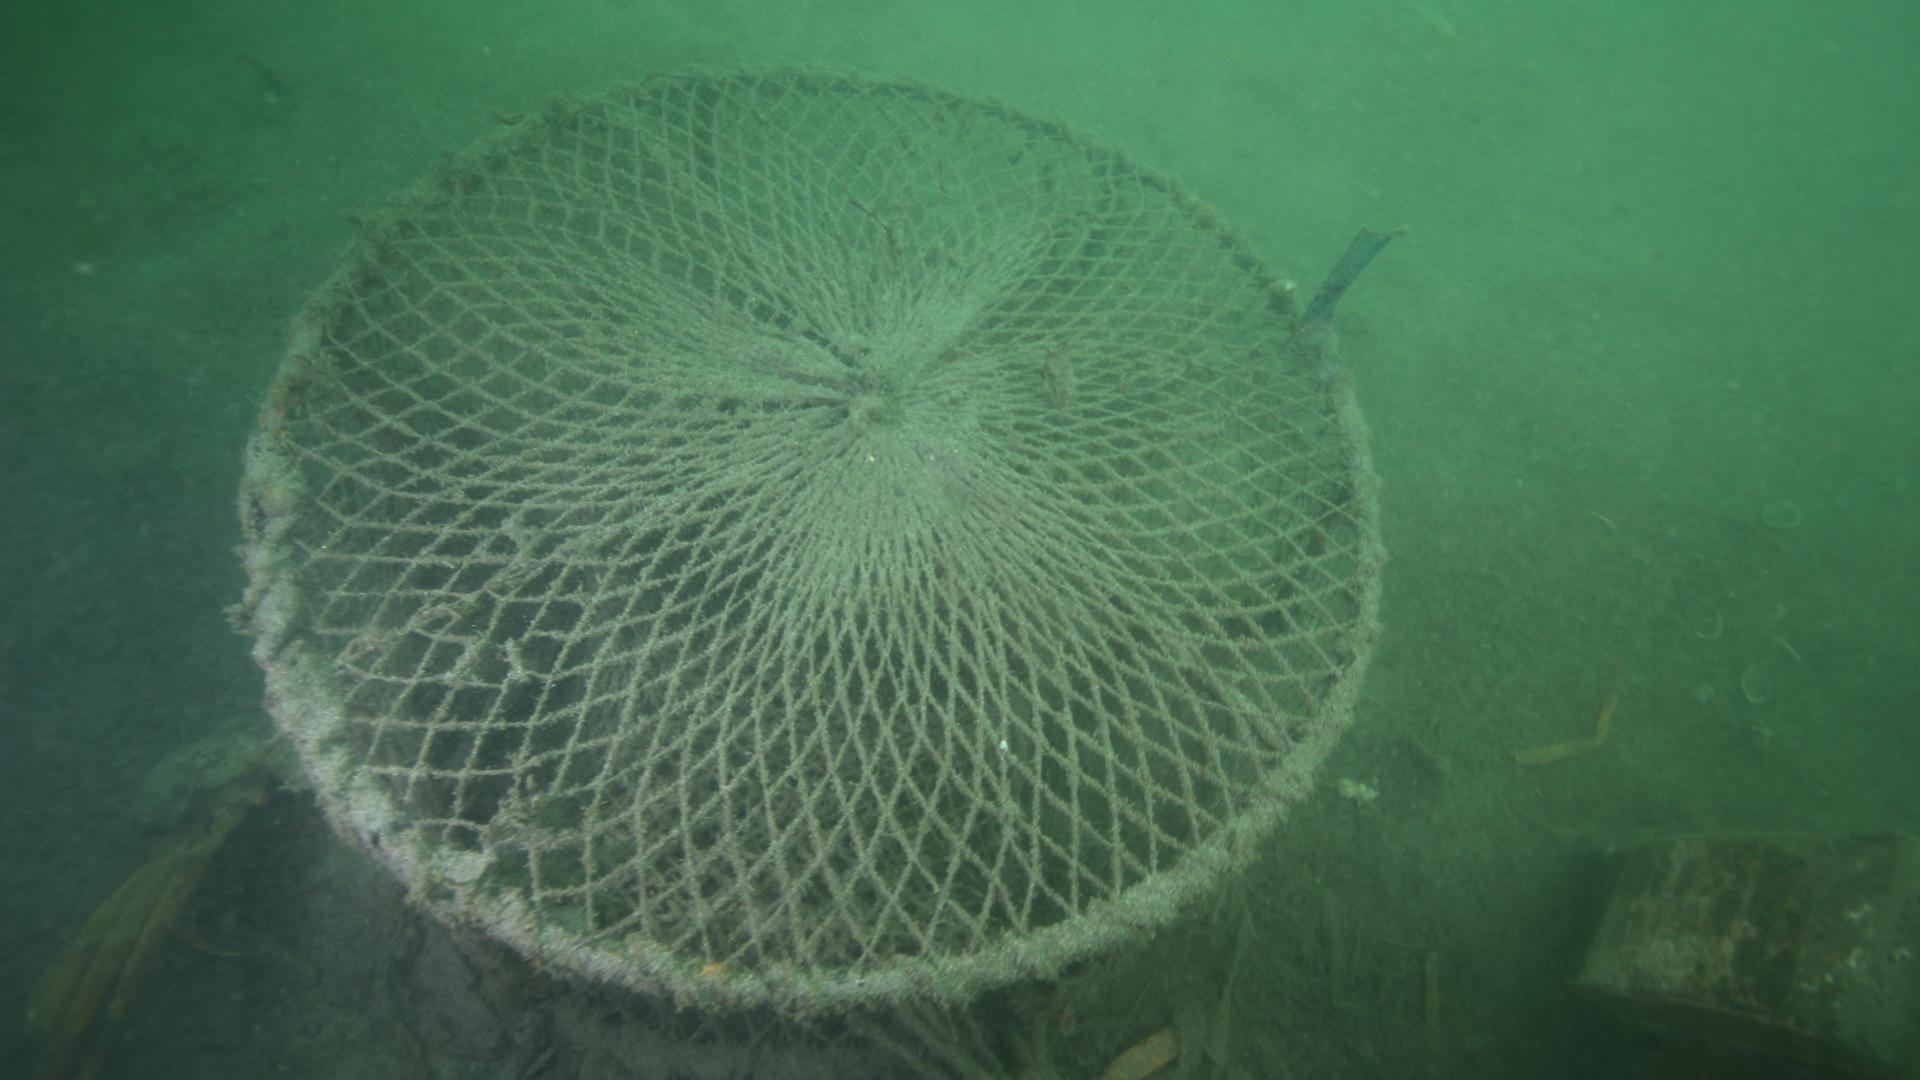circular fish trap: (236, 61, 1390, 1080)
